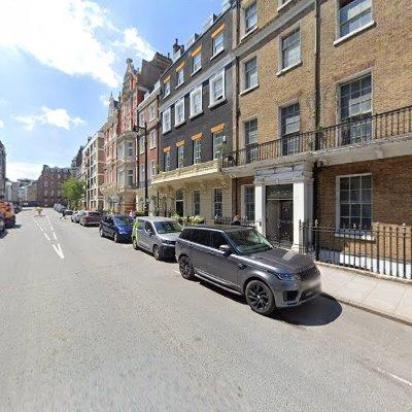stationary-car-onstreet: (176, 222, 322, 316), (97, 213, 139, 243), (79, 210, 103, 228), (70, 210, 86, 224), (1, 211, 6, 236), (60, 206, 66, 212)
stationary-light-truck-onstreet: (130, 213, 186, 262), (0, 202, 15, 228)
